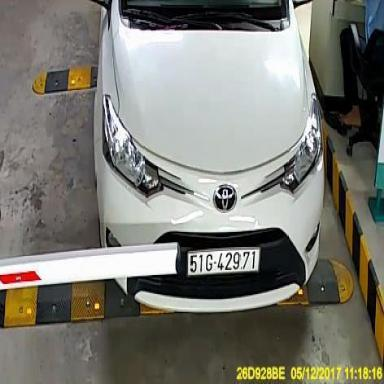License_Plate: (187, 242, 262, 283)
